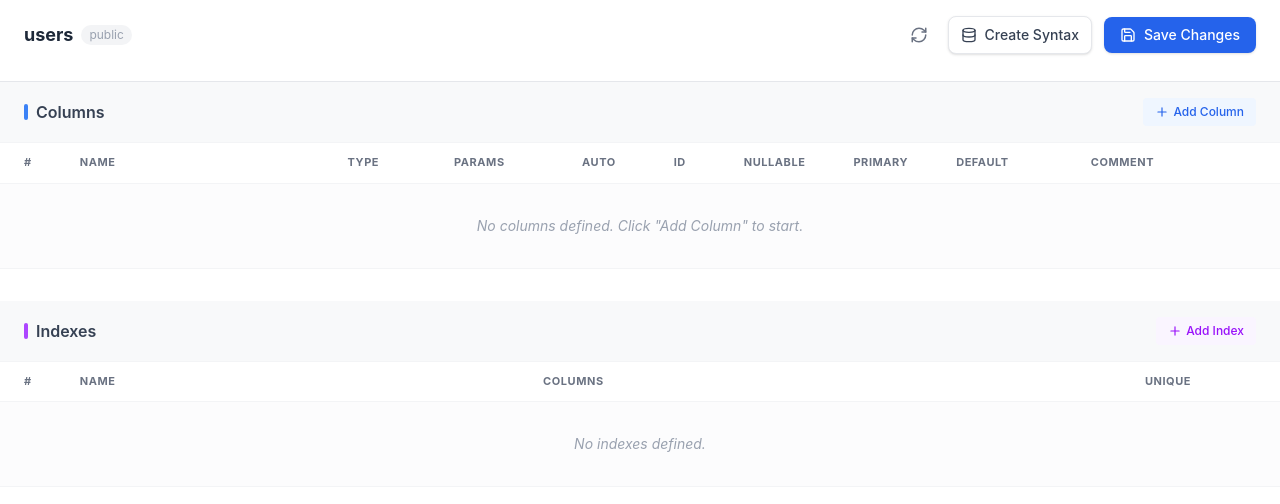
Test case: StructureView Component › validates column names
Click the button "Add Column" at (1200, 112), box [1143,98,1256,126]
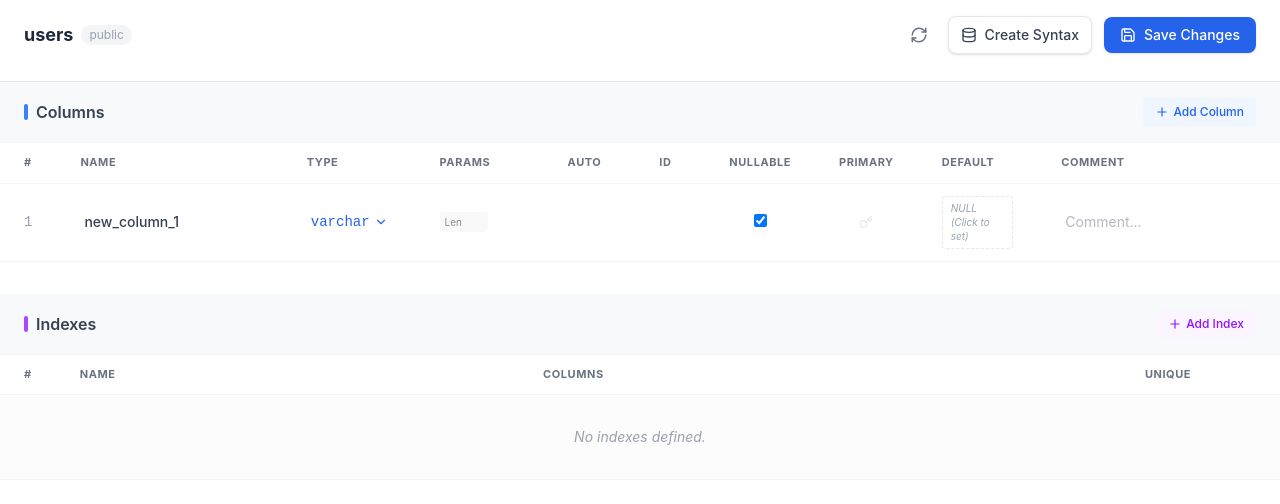
Replace the text in the field showing "new_column_" with "1startWithNumber" at (170, 222), box [80,210,259,235]
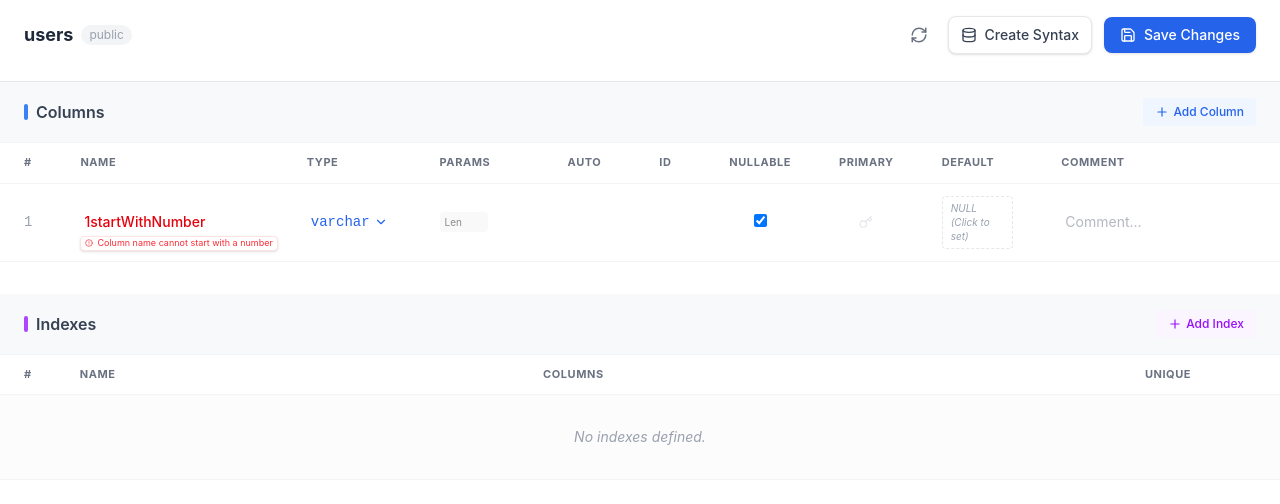
Check: the text "Column name cannot start with a number" is shown, box [80,236,278,251]
Replace the text in the field showing "new_column_" with "select" at (170, 222), box [80,210,259,235]
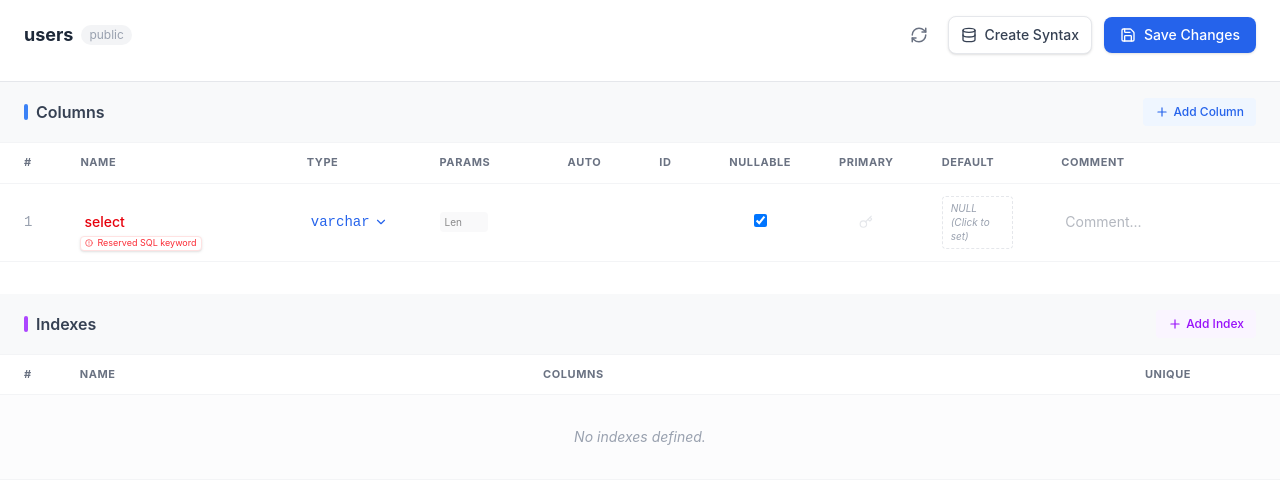
Check: the text "Reserved SQL keyword" is shown, box [80,236,202,251]
